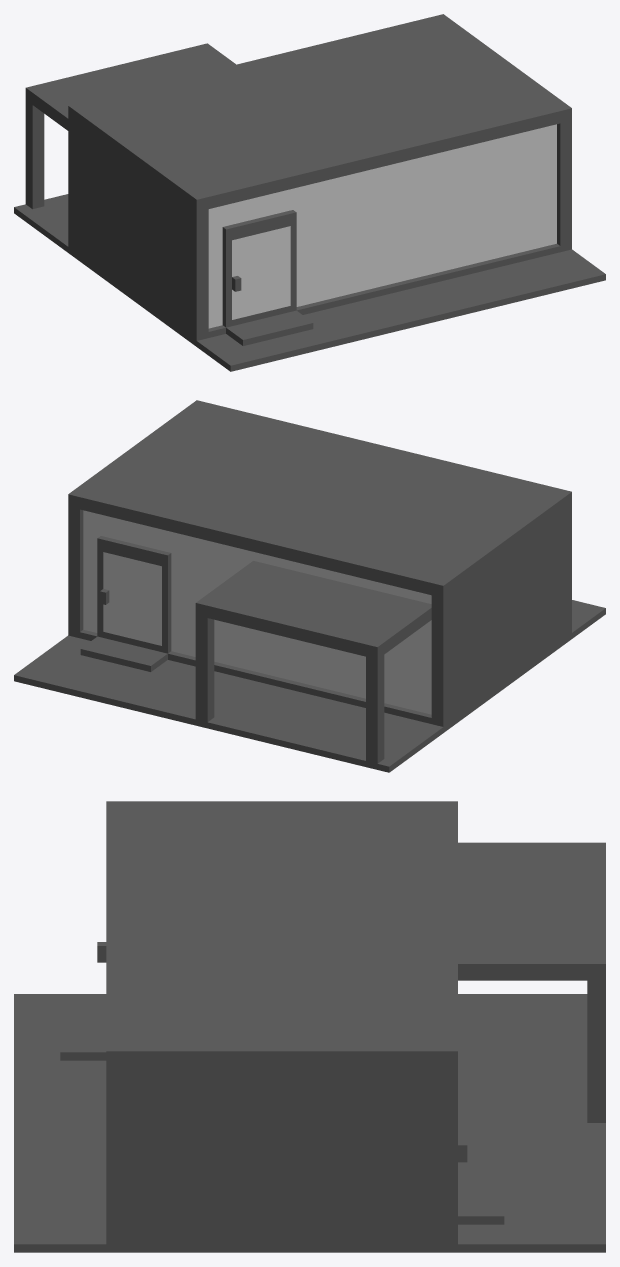
Rendered from bld_house2.obj.
The picture shows the model from 3 angles, top to bottom: view 1: azimuth 30°, elevation 25°; view 2: azimuth 150°, elevation 25°; view 3: azimuth 270°, elevation 25°; orthographic projection. The views are drawn at different scales.
Bounding box in the file's own units: 64 × 24 × 64.
